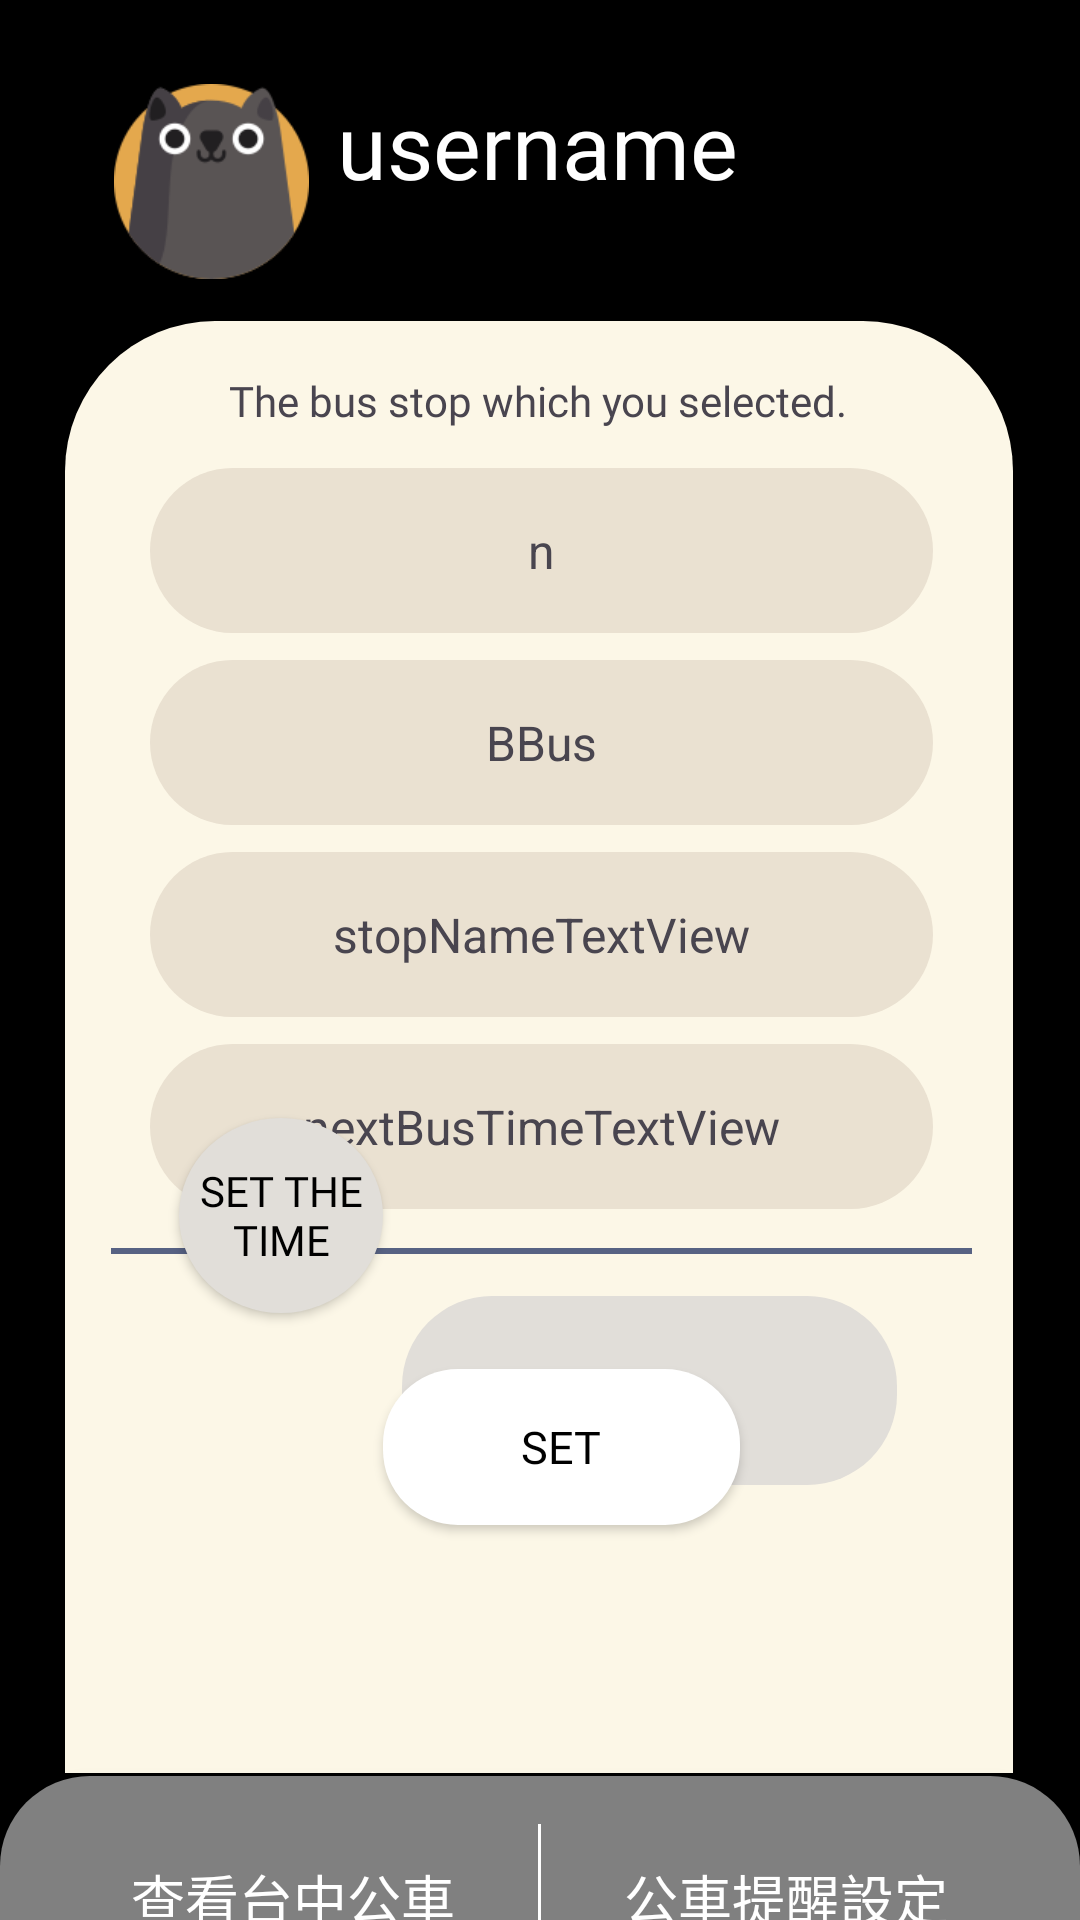

Screen size 1080 × 1920. Icon name, then its center in pixels as (x=x, y=y):
cat: (x=211, y=181)
